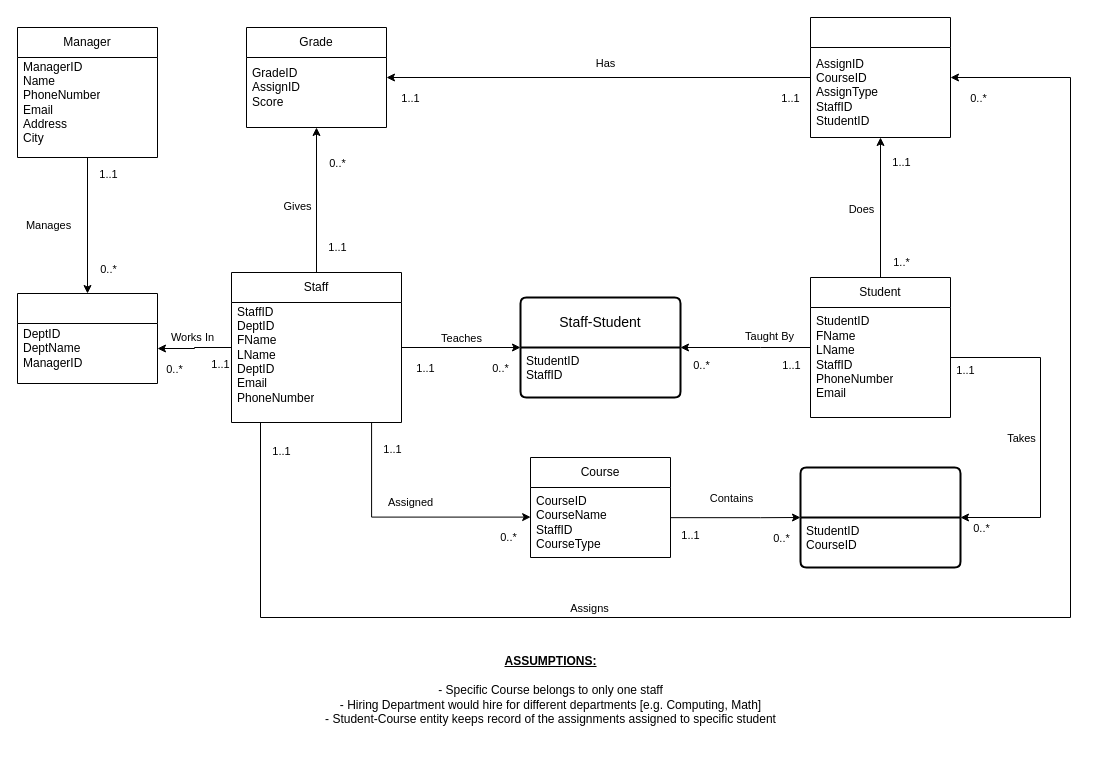
This 1096x765 diagram has some shape labels left out. The shapes that lost their labels are listed below. From the top down, each one's box as (x1, y1, x2, y2) in pixels, then its label:
(810, 16, 950, 138): Assignment
(16, 292, 158, 384): Department
(799, 466, 961, 568): Student-Course
